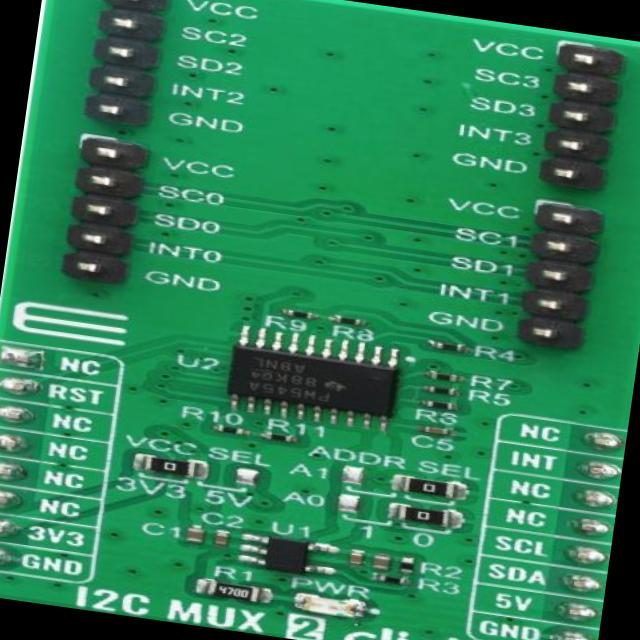IC: (226, 333, 408, 428), (250, 534, 332, 576)
LED: (299, 592, 363, 620)
capacitor: (184, 526, 208, 544), (370, 554, 393, 570), (422, 426, 452, 438), (348, 548, 366, 566), (214, 530, 228, 546)
connector: (511, 202, 602, 350), (61, 141, 143, 291), (531, 39, 610, 190), (87, 0, 171, 129), (606, 191, 610, 194)
resistor: (136, 454, 203, 481), (399, 504, 457, 530), (401, 475, 459, 499), (207, 579, 259, 603), (371, 574, 412, 587), (429, 372, 462, 386), (335, 316, 366, 330), (262, 432, 296, 444), (218, 426, 250, 438), (434, 342, 468, 353), (426, 400, 456, 412), (428, 386, 458, 398), (283, 310, 318, 320), (398, 558, 416, 576)
